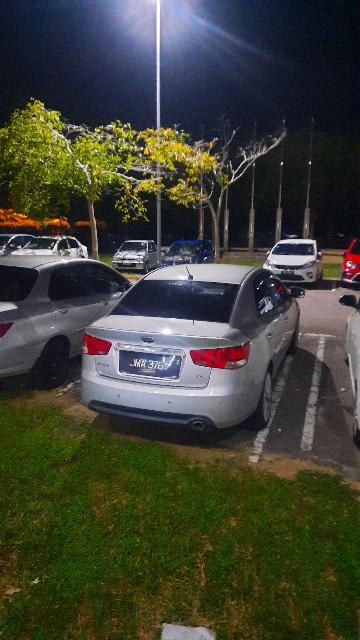License_Plate: (119, 350, 186, 383)
car: (82, 263, 308, 434), (1, 256, 137, 387), (264, 238, 326, 289)
